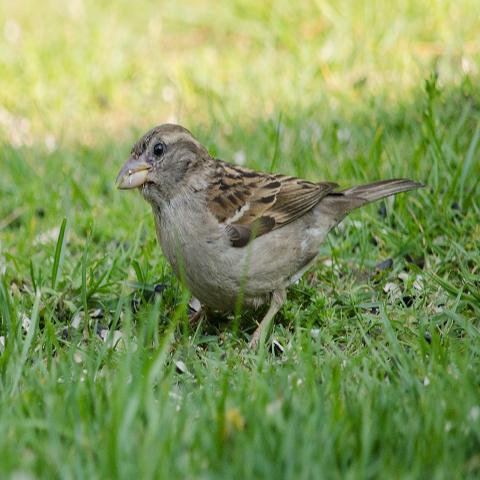bird: (113, 120, 426, 356)
